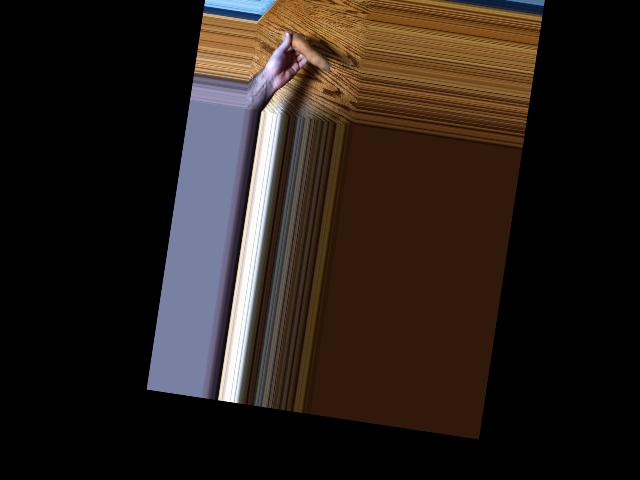sweet_potato: (276, 28, 334, 72)
